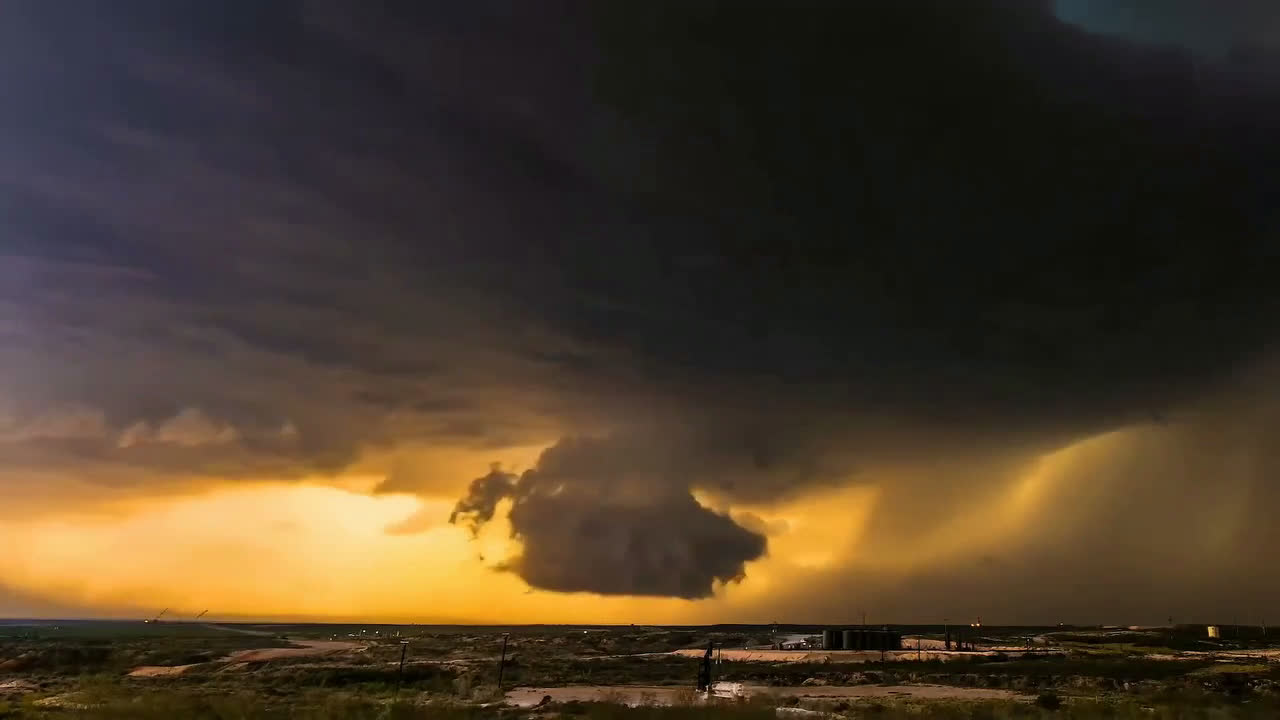FFD: (768, 409, 1278, 624)
mesocyclone: (127, 0, 1279, 443)
wall cloud: (448, 417, 771, 599)
